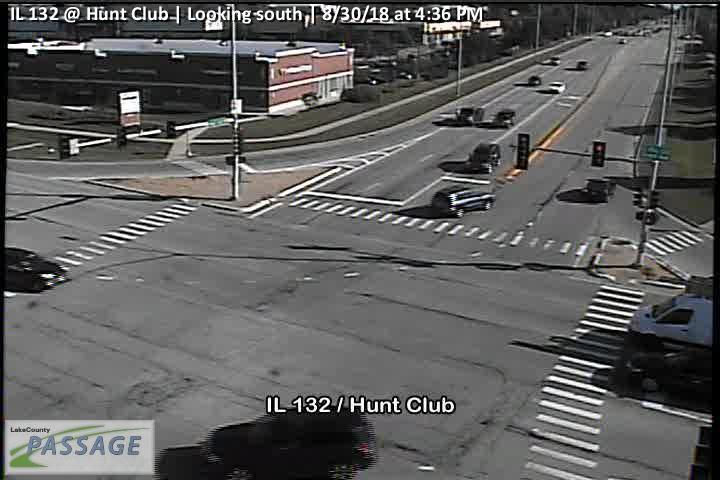SUV: (198, 404, 378, 480), (431, 186, 496, 218), (463, 142, 501, 174), (493, 110, 518, 128)
Sedan: (622, 347, 713, 396), (5, 245, 68, 294), (548, 81, 565, 94)
Truck: (627, 292, 712, 346), (585, 177, 616, 204), (455, 105, 483, 126)
